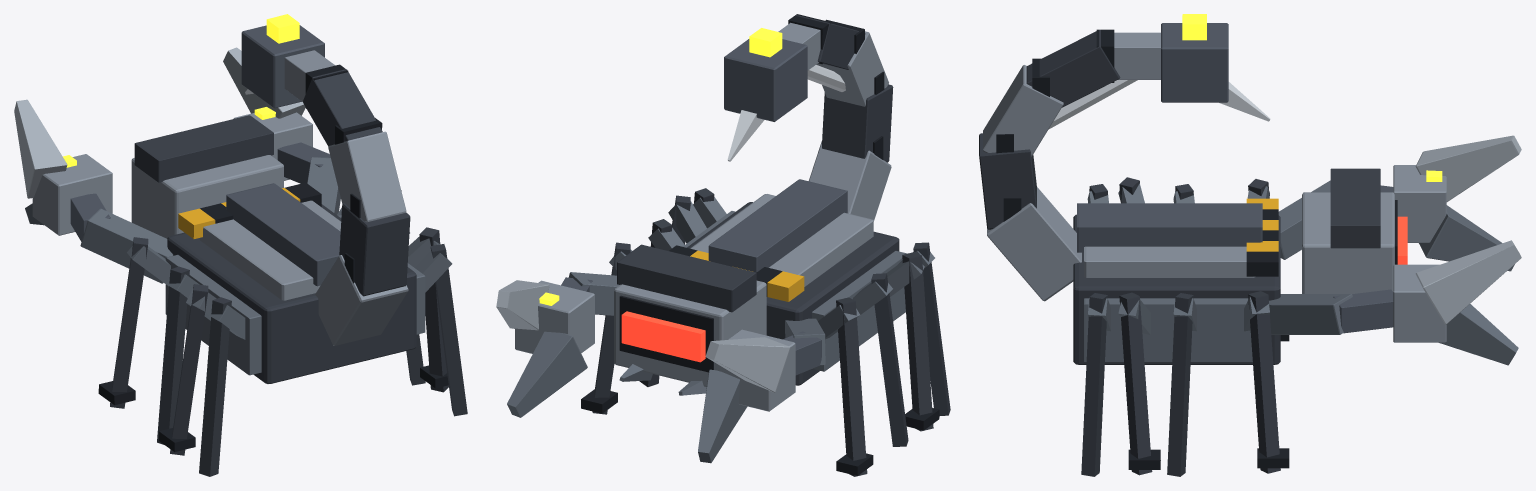
File: mecha-scorpio.glb
3 renders of one model, left to right at view 1: azimuth 30°, elevation 25°; view 2: azimuth 150°, elevation 25°; view 3: azimuth 270°, elevation 25°, orthographic.
Parts seen in each view (by area): view 1: body, tail, head, arm.R, arm.L, leg.FR, leg.BR, leg.BL; view 2: body, tail, head, arm.L, arm.R, leg.FR, leg.BR, leg.FL, leg.BL; view 3: body, tail, arm.L, head, arm.R, leg.BL, leg.FL, leg.BR.
Boxes of the visible parts, <box> form: body: <box>157,182,467,476</box>; tail: <box>241,14,410,345</box>; head: <box>131,115,283,238</box>; arm.R: <box>14,99,173,283</box>; arm.L: <box>223,47,340,214</box>; leg.FR: <box>98,237,170,408</box>; leg.BR: <box>159,284,216,455</box>; leg.BL: <box>407,227,448,392</box>; body: <box>639,179,950,446</box>; tail: <box>724,14,893,221</box>; head: <box>614,244,766,395</box>; arm.L: <box>496,272,619,417</box>; arm.R: <box>698,318,825,463</box>; leg.FR: <box>818,297,873,476</box>; leg.BR: <box>886,252,939,431</box>; leg.FL: <box>581,242,631,414</box>; leg.BL: <box>668,195,706,244</box>; body: <box>1073,184,1280,476</box>; tail: <box>979,14,1270,301</box>; arm.L: <box>1269,240,1521,365</box>; head: <box>1302,168,1407,293</box>; arm.R: <box>1278,135,1521,271</box>; leg.BL: <box>1118,292,1160,475</box>; leg.FL: <box>1244,291,1289,473</box>; leg.BR: <box>1118,177,1144,203</box>.
Bounding box in the file's own units: 0.766 × 1 × 1.25.
